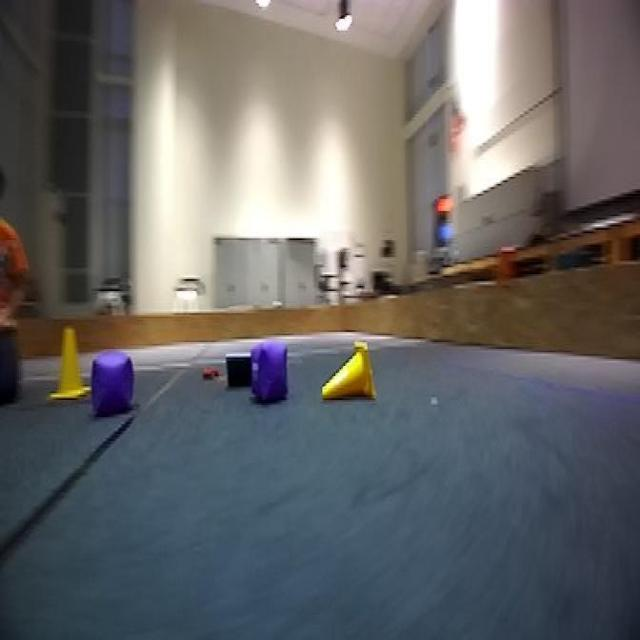frc_cone: (320, 337, 380, 414), (49, 322, 84, 402)
frc_cube: (248, 339, 292, 407), (86, 358, 130, 422)
